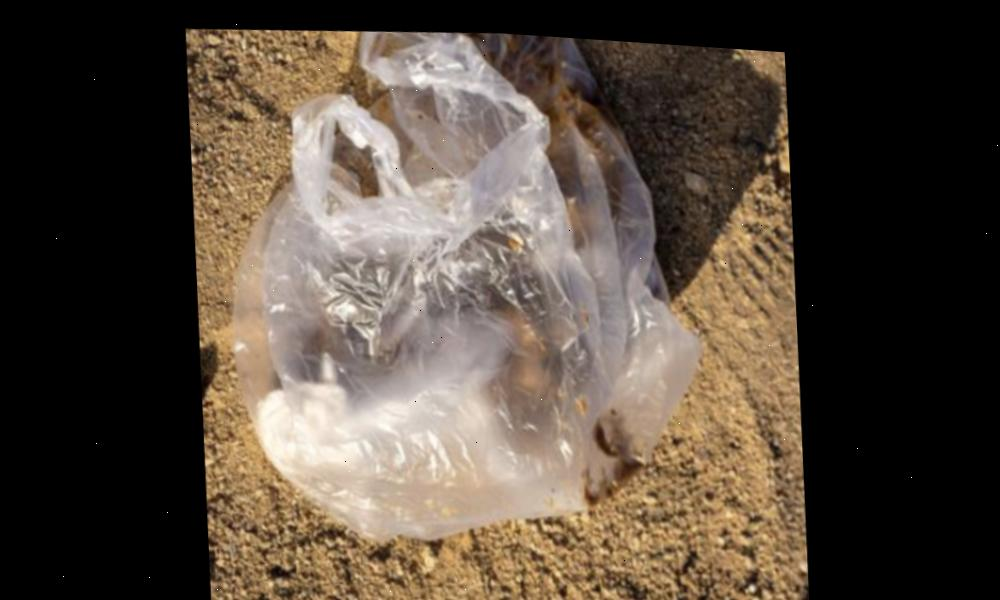plastic bag: (226, 12, 704, 560)
